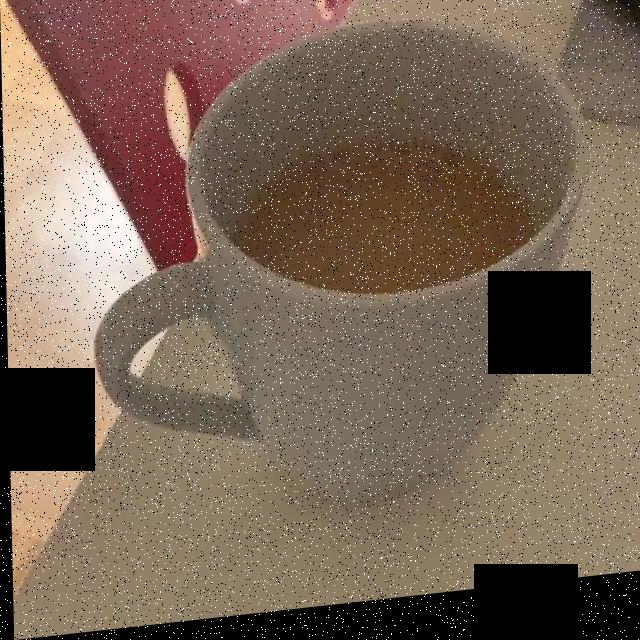tea: (247, 146, 520, 304)
